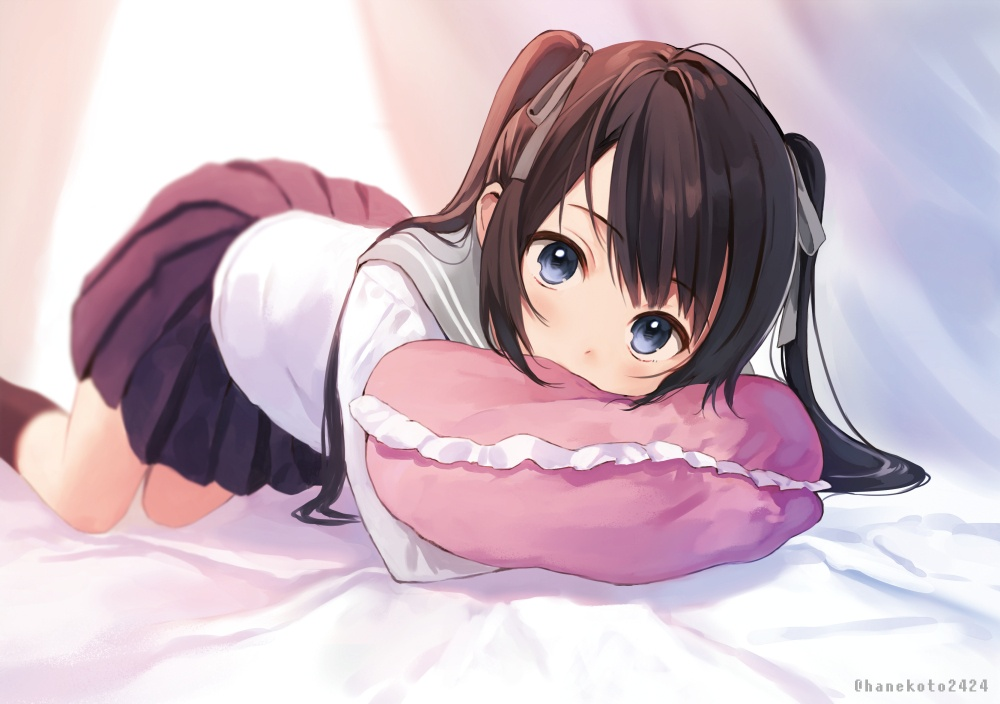纸片人正脸: (455, 22, 828, 412)
